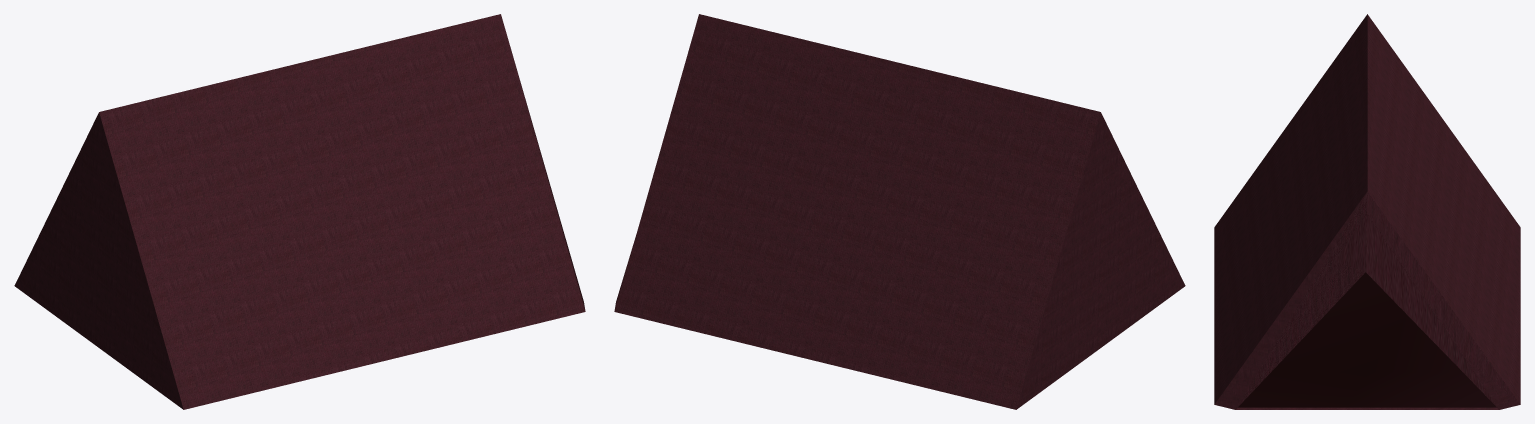
The model's file is barraca.fbx.
3 views of the same model, side by side, from view 1: azimuth 30°, elevation 25°; view 2: azimuth 150°, elevation 25°; view 3: azimuth 270°, elevation 25° (orthographic). The views are drawn at different scales.
Visible parts, largest first — view 1: Cube; view 2: Cube; view 3: Cube.
Boxes of the visible parts, bbox=[...] form: Cube: bbox=[14, 14, 585, 409]; Cube: bbox=[614, 14, 1185, 409]; Cube: bbox=[1214, 14, 1520, 409].
Bounding box in the file's own units: 365 × 201 × 260.
1 material, 1 textured.
